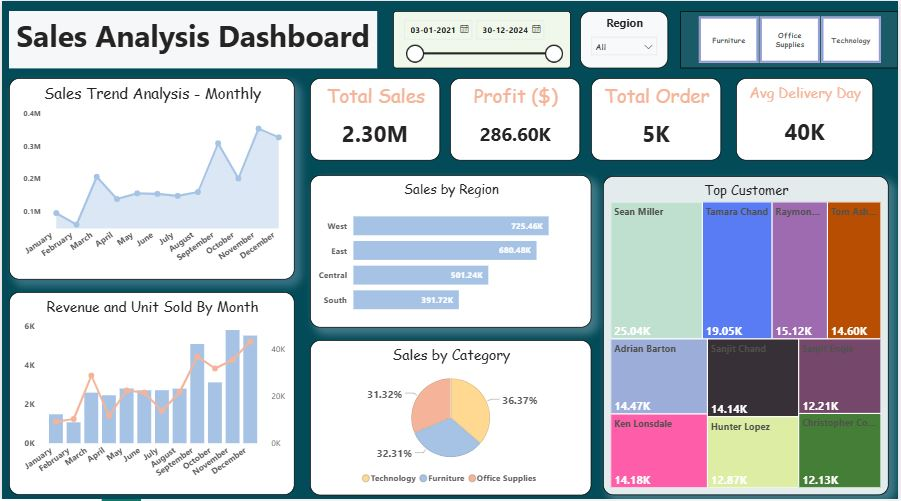

The page's visual inventory and layout, read from the dashboard file:
{"tool":"powerbi","page":{"name":"Sales_Analysis","canvas":[1280,720],"ordinal":0},"visuals":[{"type":"textbox","box":[10,14,526,82],"z":0},{"type":"cardVisual","title":"Total Sales","fields":{"Data":["Sum(Sales Overview Data (1).sales)"]},"box":[440,110,186,118],"z":1000},{"type":"cardVisual","title":"Avg Delivery Day","fields":{"Data":["Sum(Sales Overview Data (1).Avg Delivery Day)"]},"box":[1048,110,196,118],"z":2000},{"type":"cardVisual","title":"Profit ($)","fields":{"Data":["Sum(Sales Overview Data (1).profit)"]},"box":[640,110,186,118],"z":3000},{"type":"lineChart","title":"Sales Trend Analysis - Monthly","fields":{"Category":["Sales Overview Data (1).order_date.Variation.Date Hierarchy.Month"],"Y":["Sum(Sales Overview Data (1).sales)"]},"box":[10,110,408,288],"z":4000},{"type":"lineStackedColumnComboChart","title":"Revenue and Unit Sold By Month","fields":{"Category":["Sales Overview Data (1).order_date.Variation.Date Hierarchy.Month"],"Y":["Sum(Sales Overview Data (1).quantity)"],"Y2":["Sum(Sales Overview Data (1).profit)"]},"box":[10,416,408,290],"z":5000},{"type":"treemap","title":"Top Customer","fields":{"Group":["Sales Overview Data (1).customer_name"],"Values":["Sum(Sales Overview Data (1).sales)"]},"box":[858,250,408,456],"z":6000},{"type":"barChart","title":"Sales by Region","fields":{"Category":["Sales Overview Data (1).region"],"Y":["Sum(Sales Overview Data (1).sales)"]},"box":[440,248,402,218],"z":7000},{"type":"pieChart","title":" Sales by Category","fields":{"Category":["Sales Overview Data (1).category"],"Y":["Sum(Sales Overview Data (1).sales)"]},"box":[440,484,402,222],"z":8000},{"type":"slicer","title":"Category","fields":{"Values":["Sales Overview Data (1).category"]},"box":[968,14,312,82],"z":9000},{"type":"slicer","title":"Region","fields":{"Values":["Sales Overview Data (1).region"]},"box":[826,14,126,82],"z":10000},{"type":"slicer","fields":{"Values":["Sales Overview Data (1).order_date"]},"box":[558,14,254,82],"z":11000},{"type":"cardVisual","title":"Total Order","fields":{"Data":["Sales Overview Data (1).Total Orders1"]},"box":[842,110,186,118],"z":11001}]}

Visuals, with their boxes in screenshot pixels (x1, y1, x2, y2), scaled from the page's 1280x720 canvas onto the 901x501 screenshot:
textbox: [7, 10, 377, 67]
"Total Sales" cardVisual: [310, 77, 441, 159]
"Avg Delivery Day" cardVisual: [738, 77, 876, 159]
"Profit ($)" cardVisual: [450, 77, 581, 159]
"Sales Trend Analysis - Monthly" lineChart: [7, 77, 294, 277]
"Revenue and Unit Sold By Month" lineStackedColumnComboChart: [7, 289, 294, 491]
"Top Customer" treemap: [604, 174, 891, 491]
"Sales by Region" barChart: [310, 173, 593, 324]
" Sales by Category" pieChart: [310, 337, 593, 491]
"Category" slicer: [681, 10, 900, 67]
"Region" slicer: [581, 10, 670, 67]
slicer - Sales Overview Data (1).order_date: [393, 10, 572, 67]
"Total Order" cardVisual: [593, 77, 724, 159]
